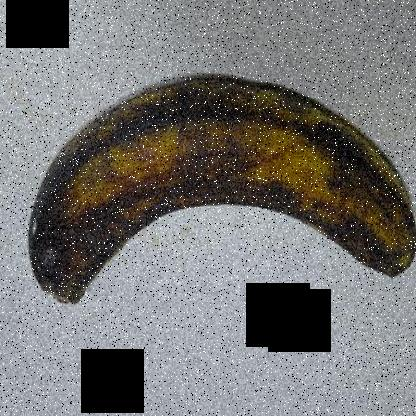overripe: (24, 40, 415, 331)
rotten: (4, 142, 108, 322)
